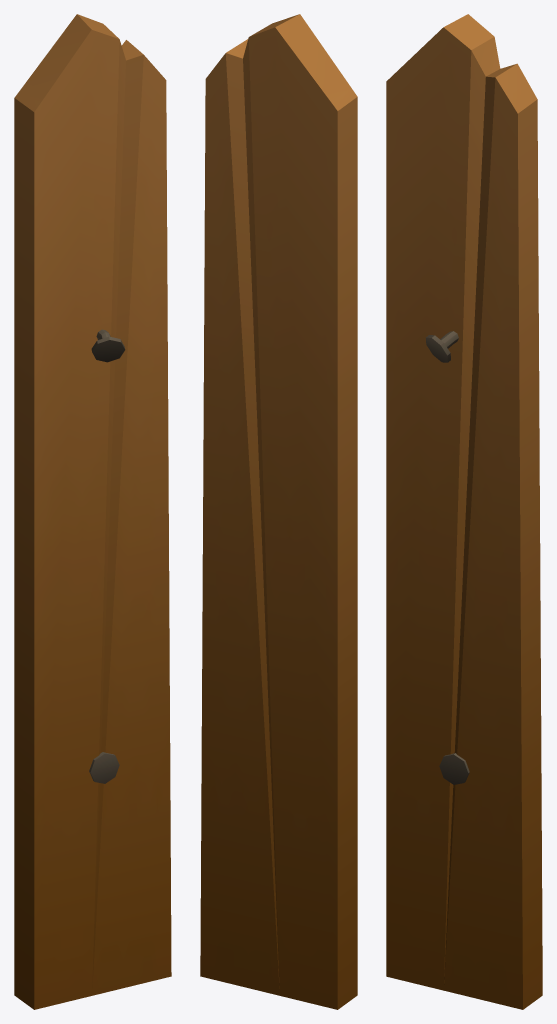
File: Fence_Bit_E.fbx
3 views of the same model, side by side, from view 1: azimuth 30°, elevation 25°; view 2: azimuth 150°, elevation 25°; view 3: azimuth 330°, elevation 25° (orthographic).
Parts seen in each view (by area): view 1: Fence_Bit_E; view 2: Fence_Bit_E; view 3: Fence_Bit_E.
Part boxes in pixels (left/top/right/bottom): Fence_Bit_E: left=14, top=14, right=171, bottom=1009; Fence_Bit_E: left=200, top=14, right=357, bottom=1009; Fence_Bit_E: left=386, top=14, right=542, bottom=1009.
Bounding box in the file's own units: 16 × 7.25 × 108.
1 material, 1 textured.
